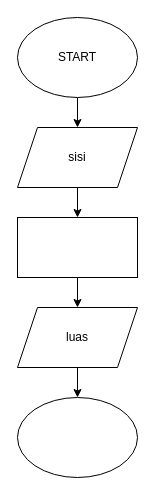
Image size: 155x495. Some labels were removed from this diagram. The shapes that lost their labels are listed below. From the top down, each one's box as (x1, y1, x2, y2) in pixels, then its label:
(16, 216, 138, 278): luas ← sisi * sisi
(16, 396, 138, 478): END
